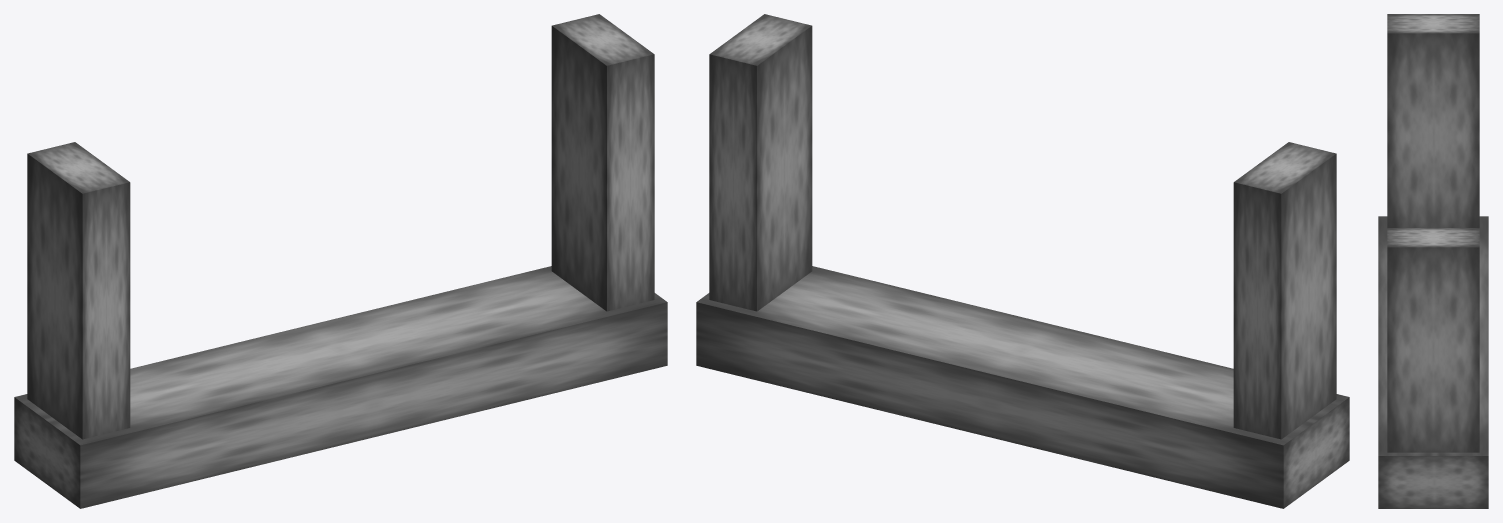
File: DrawBridge_Gate.glb
3 views of the same model, side by side, from view 1: azimuth 30°, elevation 25°; view 2: azimuth 150°, elevation 25°; view 3: azimuth 270°, elevation 25° (orthographic). The views are drawn at different scales.
Parts seen in each view (by area): view 1: Cube; view 2: Cube; view 3: Cube.
Part boxes in pixels (left/top/right/bottom): Cube: left=14, top=14, right=667, bottom=508; Cube: left=696, top=14, right=1349, bottom=508; Cube: left=1378, top=14, right=1488, bottom=508.
Bounding box in the file's own units: 2.46 × 1.24 × 0.48.
Materials: 1 (1 with a texture image).
